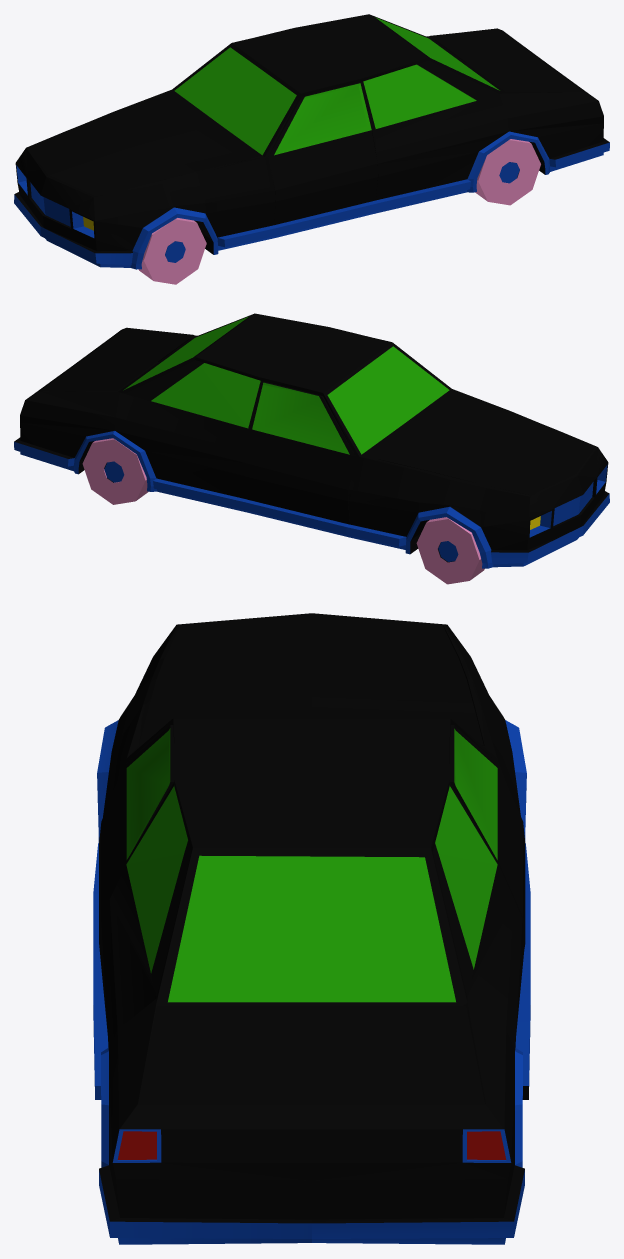
File: CarAll_BH.fbx
3 renders of one model, top to bottom at view 1: azimuth 30°, elevation 25°; view 2: azimuth 150°, elevation 25°; view 3: azimuth 270°, elevation 25°, orthographic. The views are drawn at different scales.
Parts seen in each view (by area): view 1: CarAll_BH; view 2: CarAll_BH; view 3: CarAll_BH.
Boxes of the visible parts, <box> form: CarAll_BH: <box>14,14,609,284</box>; CarAll_BH: <box>14,313,609,584</box>; CarAll_BH: <box>93,613,530,1244</box>.
Size of the model in its own units: 819 by 222 by 299.
